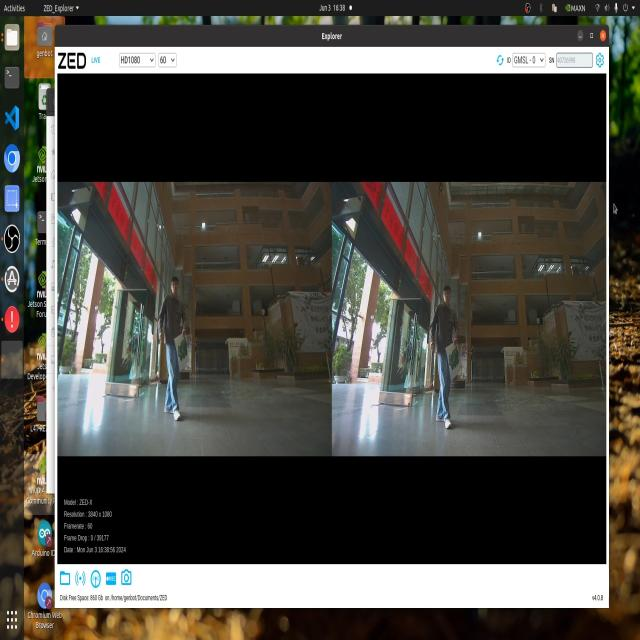green: (174, 339, 194, 377), (442, 342, 458, 374)
